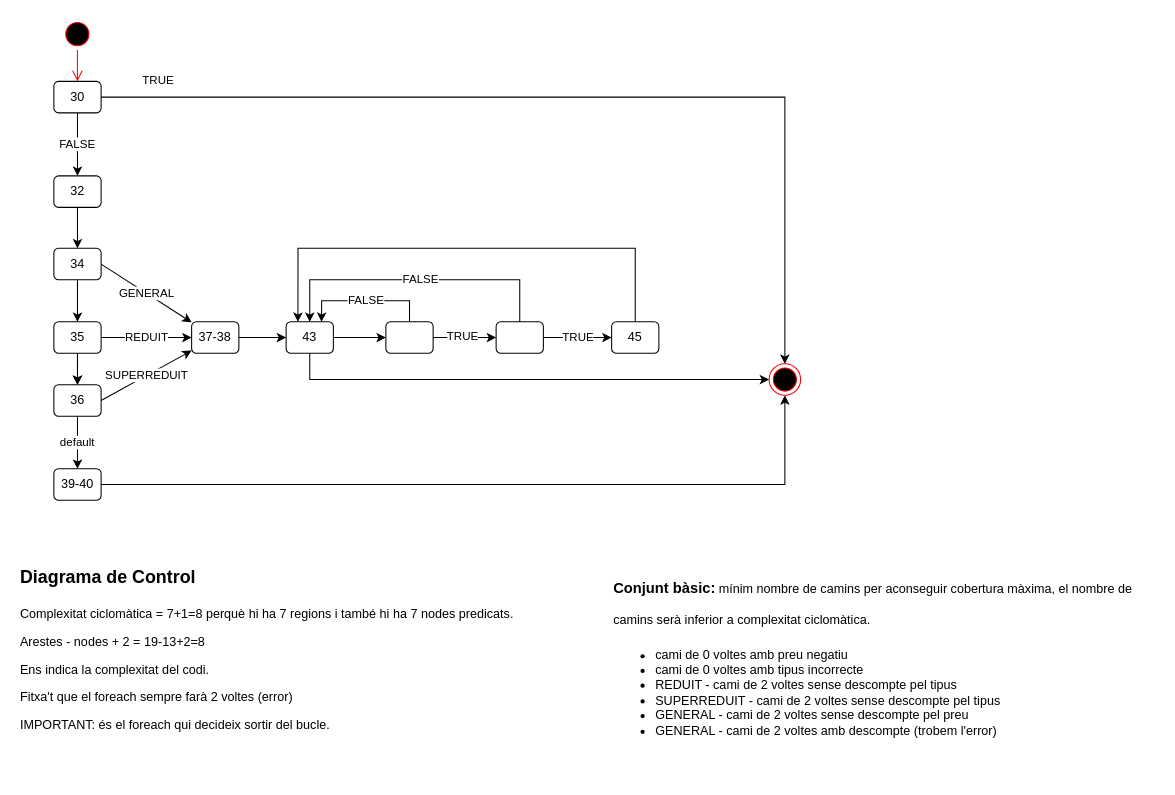
This 1175x795 diagram has some shape labels left out. Here are the shapes that lost their labels. From the top down, the box of each, then its label:
(385, 321, 433, 353): 44A
(495, 321, 543, 353): 44B
